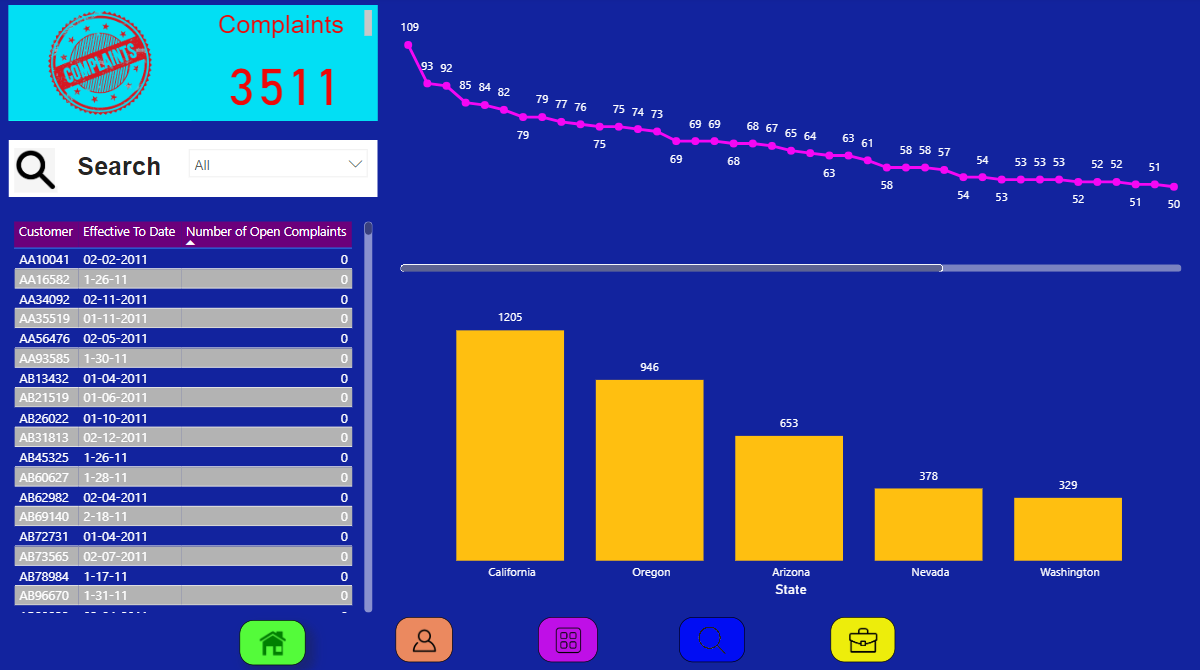

What the dashboard file says about the page in this screenshot:
{"tool":"powerbi","page":{"name":"Complaints","canvas":[1280,720],"ordinal":2},"visuals":[{"type":"lineChart","fields":{"Category":["Final Customet Lifetime Value.Effective To Date"],"Y":["Sum(Final Customet Lifetime Value.Number of Open Complaints)"]},"box":[424.7,9.5,838.3,287.9],"z":0,"group":"g1"},{"type":"card","fields":{"Values":["Sum(Final Customet Lifetime Value.Number of Open Complaints)"]},"box":[209,48.4,196.6,83.4],"z":0,"group":"g3"},{"type":"image","box":[14.3,156,58,57.6],"z":0,"group":"g4"},{"type":"tableEx","fields":{"Values":["Final Customet Lifetime Value.Customer","Final Customet Lifetime Value.Effective To Date","Final Customet Lifetime Value.Number of Open Complaints"]},"box":[14.3,233.8,391.3,424.7],"z":0},{"type":"group","id":"g1","title":"Group 4","box":[14.3,9.5,1248.6,631.5],"z":1000},{"type":"textbox","box":[63.7,162,136.4,40.5],"z":1000,"group":"g4"},{"type":"clusteredColumnChart","fields":{"Y":["Sum(Final Customet Lifetime Value.Number of Open Complaints)"],"Category":["Final Customet Lifetime Value.State"]},"box":[424.7,314.4,838.3,326.6],"z":1000,"group":"g1"},{"type":"group","id":"g2","title":"Group 2","box":[14.3,9.5,391.3,122.3],"z":2000,"group":"g1"},{"type":"textbox","box":[209,9.5,196.6,38.9],"z":2000,"group":"g3"},{"type":"slicer","fields":{"Values":["Final Customet Lifetime Value.Education"]},"box":[195.9,153.4,209.7,52.9],"z":2000,"group":"g4"},{"type":"image","box":[886,658.5,68.4,47.7],"z":2000,"group":"g5"},{"type":"group","id":"g3","title":"Group 1","box":[209,9.5,196.6,122.3],"z":3000,"group":"g2"},{"type":"group","id":"g4","title":"Group 3","box":[14.3,153.4,391.3,60.4],"z":3000,"group":"g1"},{"type":"image","box":[725.3,658.5,70,47.7],"z":3000,"group":"g5"},{"type":"image","box":[424.7,658.5,60.4,47.7],"z":4000,"group":"g5"},{"type":"image","box":[575.8,658.5,63.6,47.7],"z":5000,"group":"g5"},{"type":"image","box":[259.3,661.7,70,47.7],"z":6000,"group":"g5"},{"type":"group","id":"g5","title":"Group 5","box":[259.3,658.5,695.1,50.9],"z":6001},{"type":"image","box":[14.3,9.5,194.7,122.3],"z":7003,"group":"g2"}]}

Visuals, with their boxes in screenshot pixels (x1, y1, x2, y2), scaled from the page's 1280x720 canvas onto the 1200x670 screenshot:
lineChart - Final Customet Lifetime Value.Effective To Date x Sum(Final Customet Lifetime Value.Number of Open Complaints): x1=398, y1=9, x2=1184, y2=277
card - Sum(Final Customet Lifetime Value.Number of Open Complaints): x1=196, y1=45, x2=380, y2=123
image: x1=13, y1=145, x2=68, y2=199
tableEx - Final Customet Lifetime Value.Customer x Final Customet Lifetime Value.Effective To Date: x1=13, y1=218, x2=380, y2=613
"Group 4" group: x1=13, y1=9, x2=1184, y2=596
textbox: x1=60, y1=151, x2=188, y2=188
clusteredColumnChart - Sum(Final Customet Lifetime Value.Number of Open Complaints) x Final Customet Lifetime Value.State: x1=398, y1=293, x2=1184, y2=596
"Group 2" group: x1=13, y1=9, x2=380, y2=123
textbox: x1=196, y1=9, x2=380, y2=45
slicer - Final Customet Lifetime Value.Education: x1=184, y1=143, x2=380, y2=192
image: x1=831, y1=613, x2=895, y2=657
"Group 1" group: x1=196, y1=9, x2=380, y2=123
"Group 3" group: x1=13, y1=143, x2=380, y2=199
image: x1=680, y1=613, x2=746, y2=657
image: x1=398, y1=613, x2=455, y2=657
image: x1=540, y1=613, x2=599, y2=657
image: x1=243, y1=616, x2=309, y2=660
"Group 5" group: x1=243, y1=613, x2=895, y2=660
image: x1=13, y1=9, x2=196, y2=123
